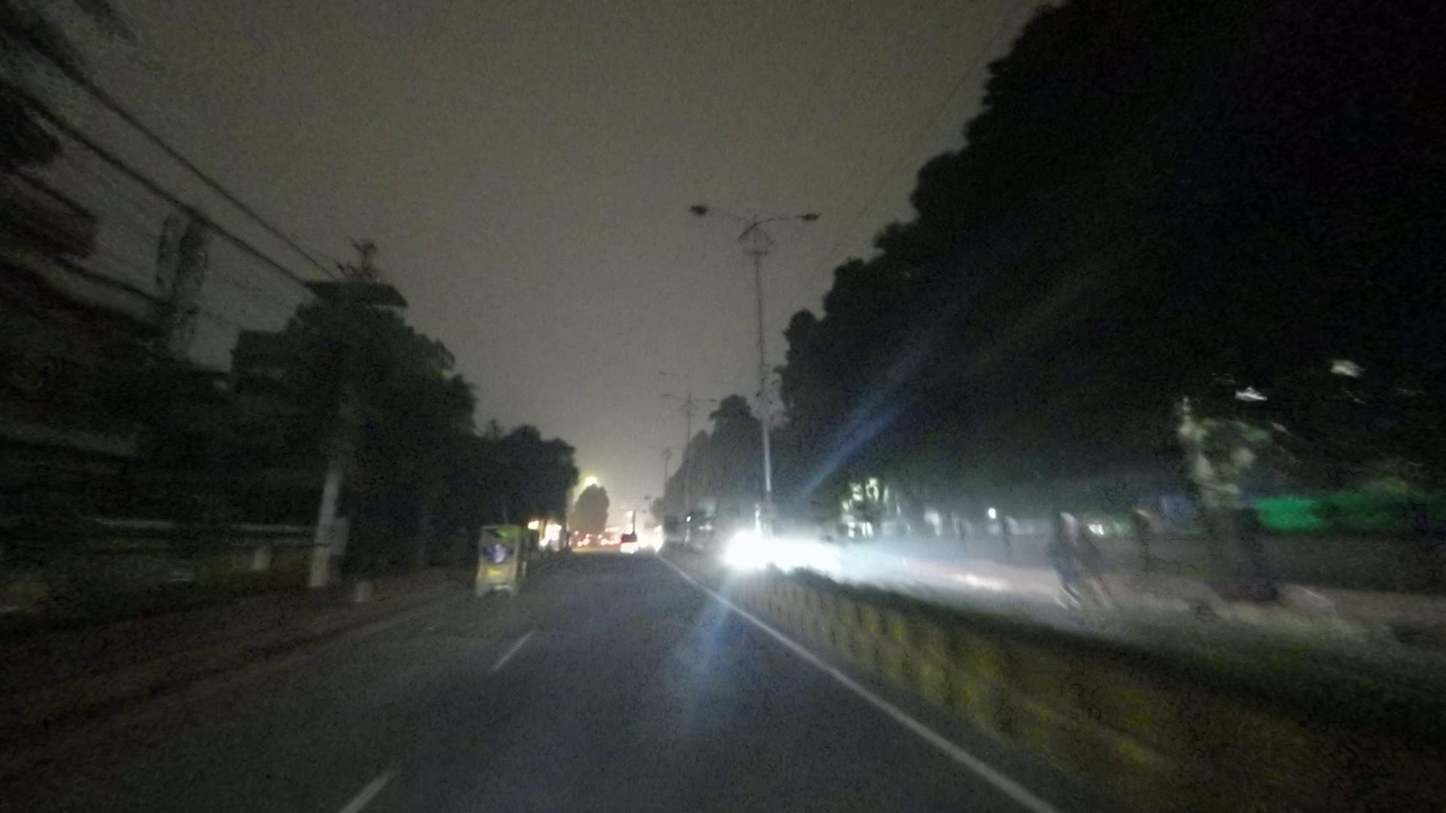streetlight: (688, 197, 752, 226), (760, 207, 827, 228)
